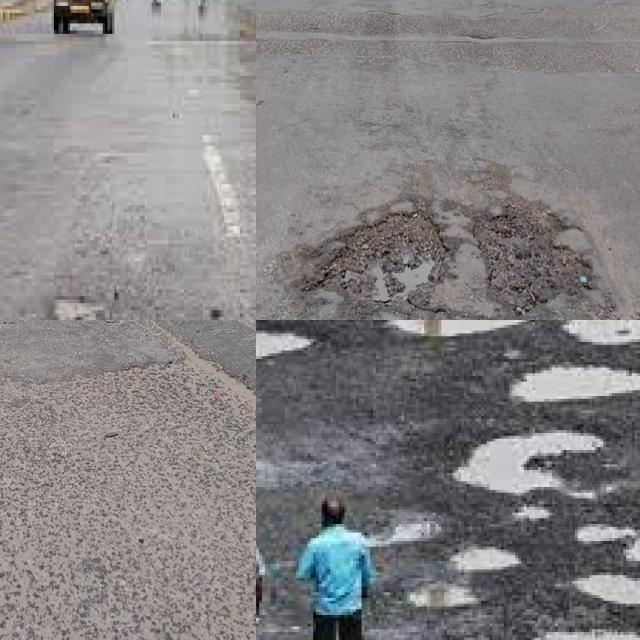Pothole: (473, 201, 589, 306), (321, 208, 446, 301), (453, 433, 603, 496), (509, 368, 640, 405), (390, 320, 530, 336), (564, 320, 640, 348)
